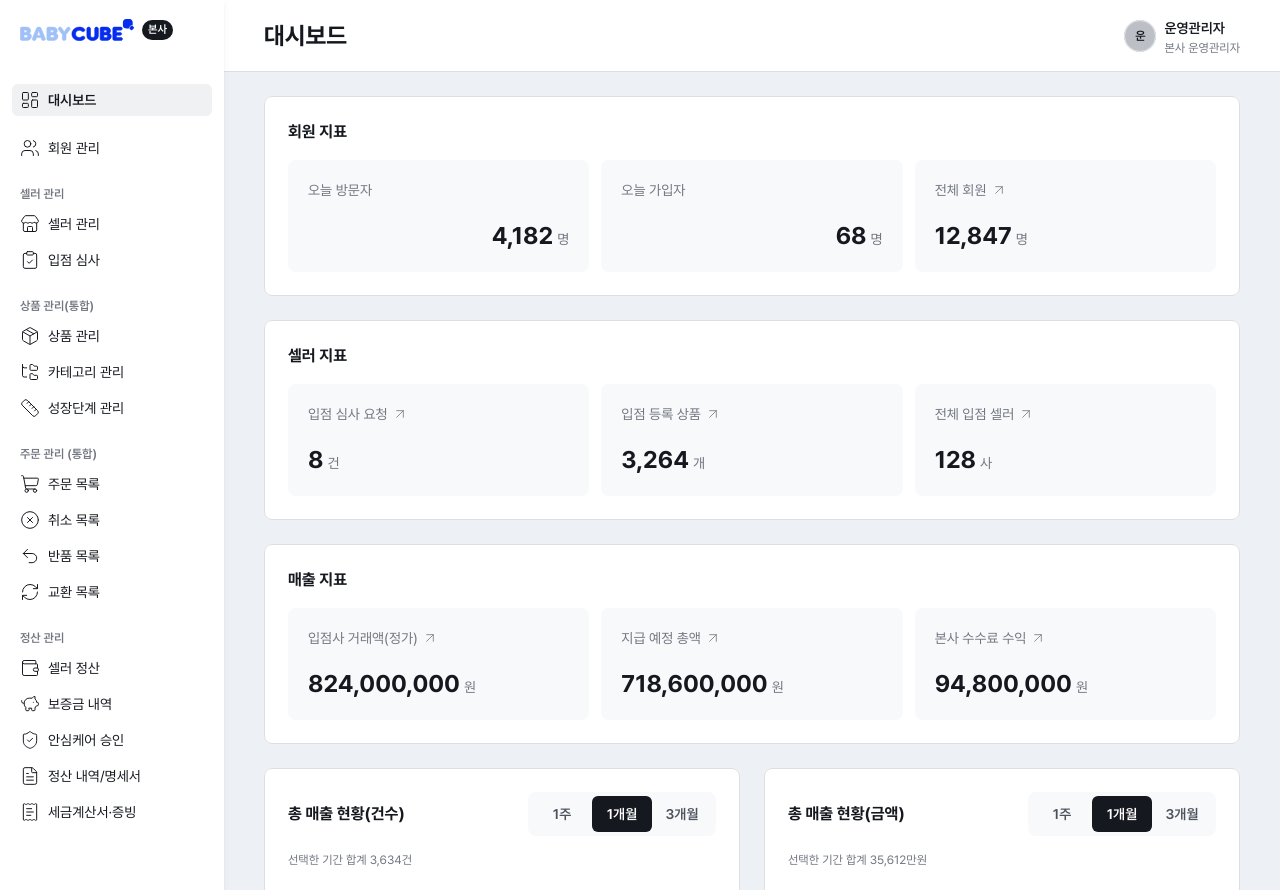
BabycubeDashboardPage (S01 대시보드) › 총 매출 현황 차트 › 기간이 길수록 합계가 커진다
This screenshot has width=1280, height=890.
Click the radio button labelled "1주" next to "총 매출 현황(건수)" at (562, 814), box x1=532 y1=796 x2=592 y2=832
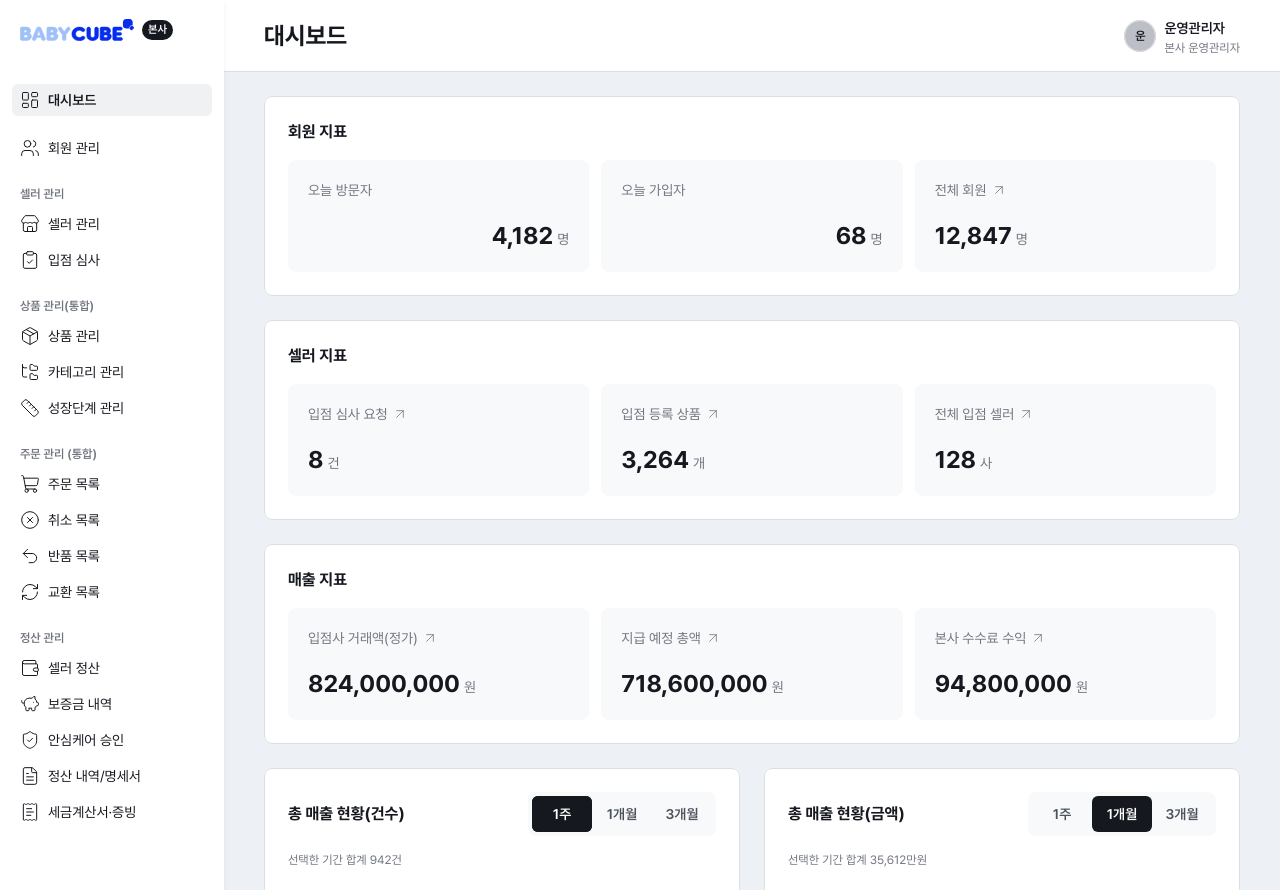
Expected: the text "선택한 기간 합계 942건" is shown, x1=288 y1=853 x2=402 y2=867
Click the radio button labelled "3개월" in the row of "총 매출 현황(건수)" at (682, 814), box x1=652 y1=796 x2=712 y2=832
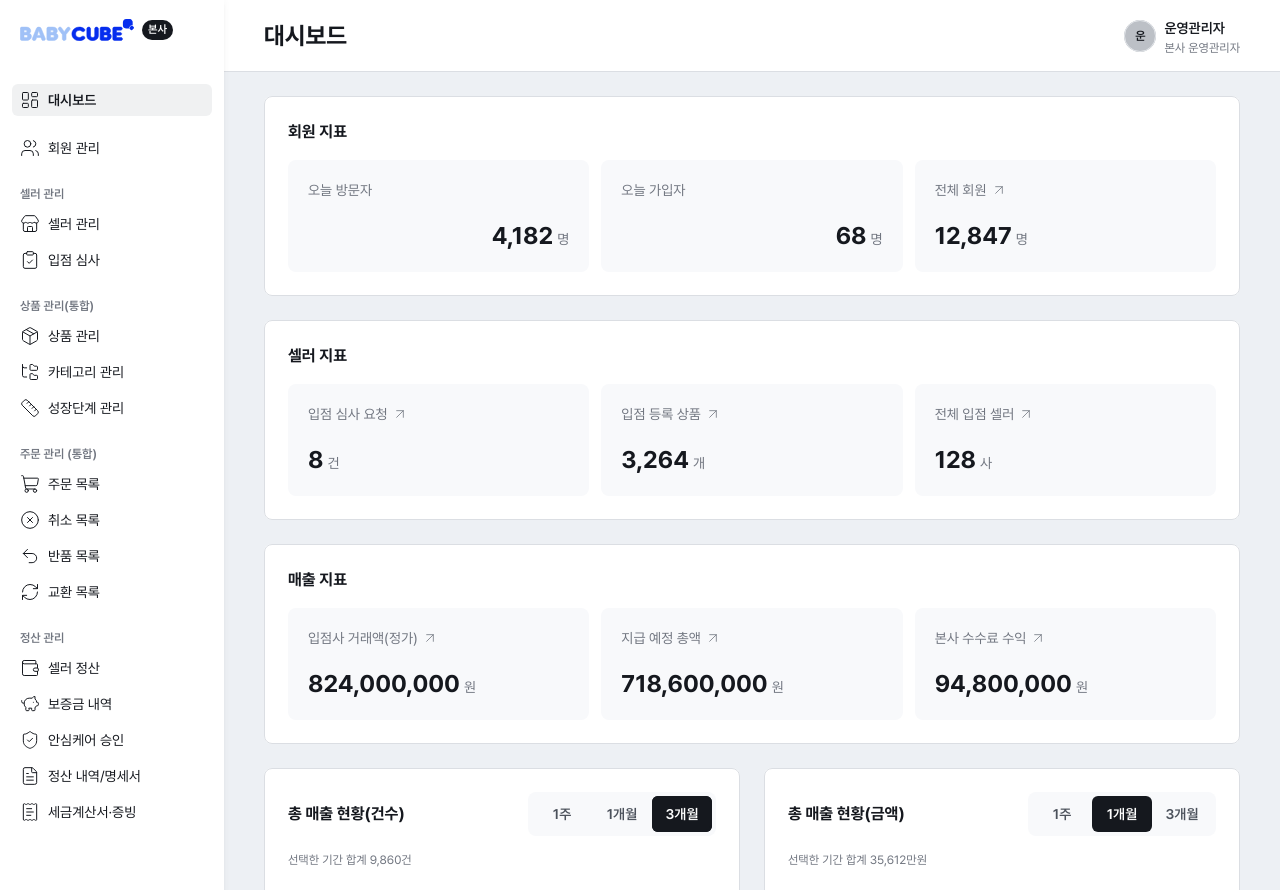
Expected: the text "선택한 기간 합계 9,860건" is shown, x1=288 y1=853 x2=412 y2=867
